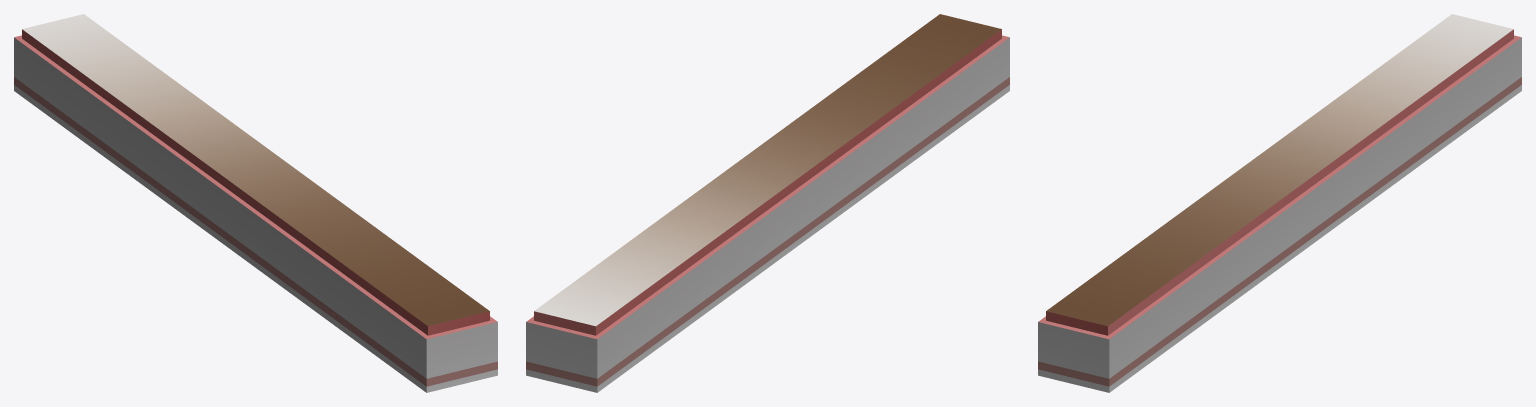
Rendered from Lvl2.fbx.
3 views of the same model, side by side, from view 1: azimuth 30°, elevation 25°; view 2: azimuth 150°, elevation 25°; view 3: azimuth 330°, elevation 25° (orthographic).
Parts seen in each view (by area): view 1: Cube.001; view 2: Cube.001; view 3: Cube.001.
Part boxes in pixels (box(x1,y1,x2,y2)): Cube.001: box(14, 14, 497, 392); Cube.001: box(526, 14, 1009, 392); Cube.001: box(1038, 14, 1521, 392).
Size of the model in its own units: 1734 by 1466 by 17381.
1 material, 1 textured.
